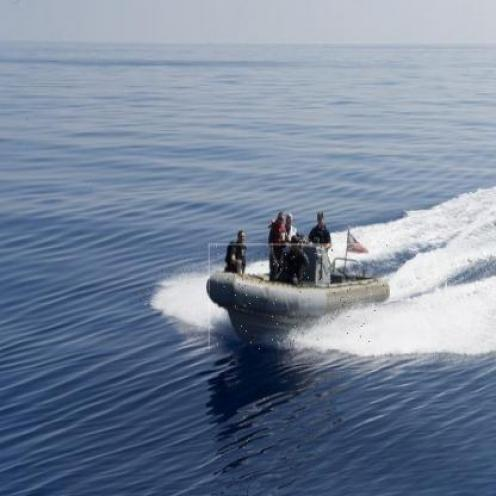Ship: (186, 195, 409, 331)
